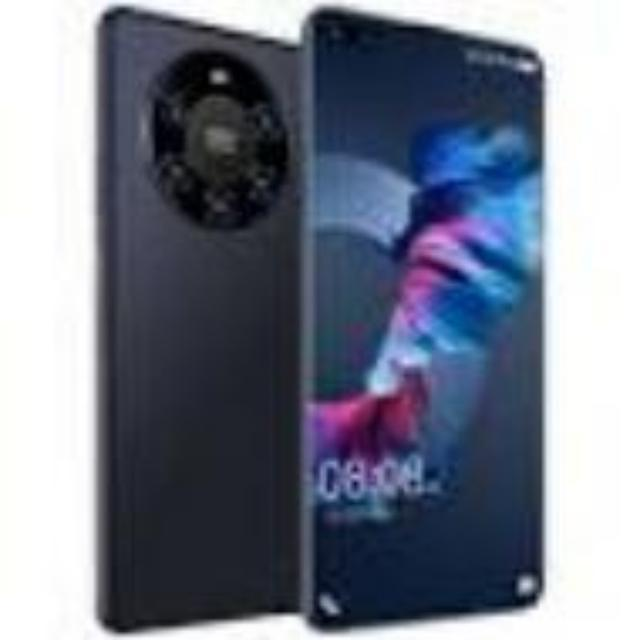phone: (290, 33, 552, 603)
